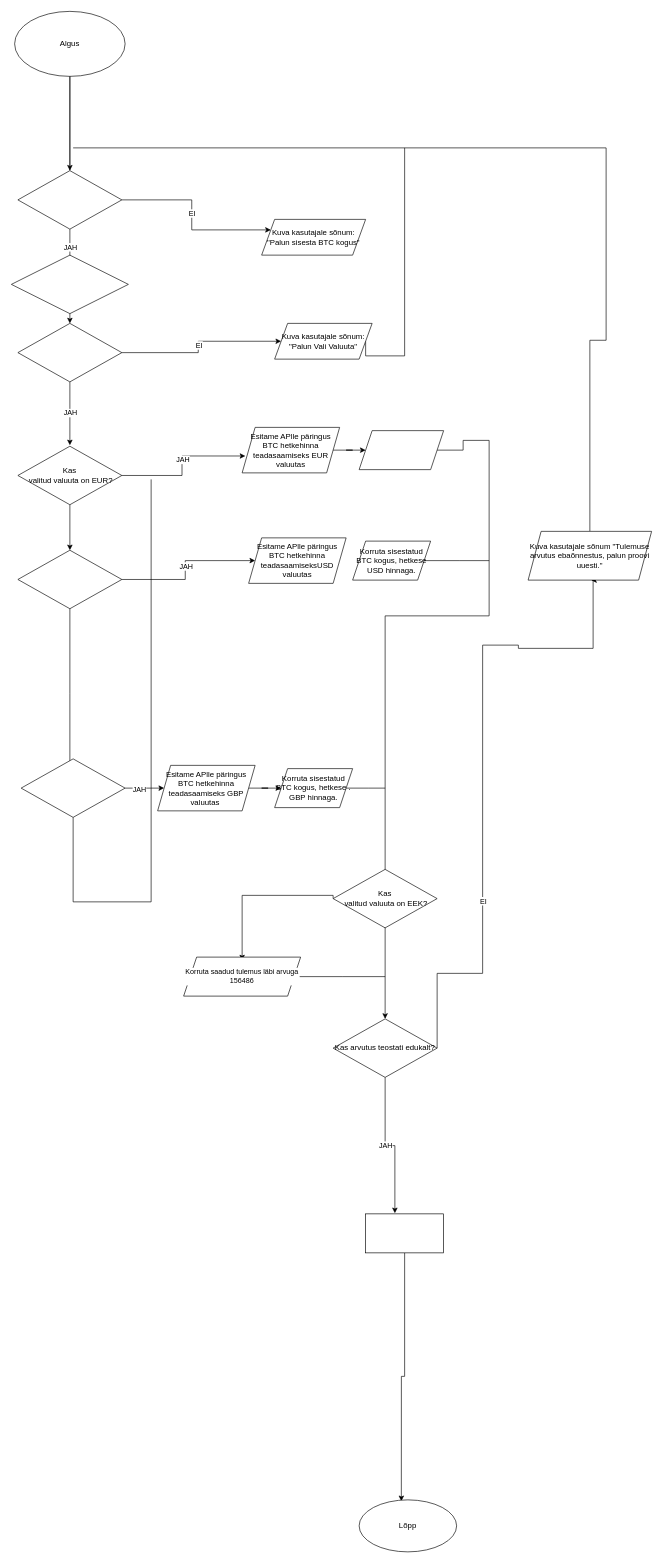
Some shapes in this 663 by 1563 pixel diagram are drawn without their labels. Each missing label, with the box of its shape:
Kas kasutaja on on valinud sihtvaluuta?: (17, 323, 122, 382)
Kas kasutaja on sisestanud oma bitcoini koguse?: (17, 170, 122, 229)
Kas kasutaja on vajutanud nuppu valuuta arvutamiseks?: (11, 254, 128, 314)
Kas valitud valuuta on GBP?: (20, 758, 125, 817)
Kas valitud valuuta on USD?: (17, 550, 122, 609)
Korruta sisestatud BTC kogus, hetkese EUR hinnaga.: (358, 430, 444, 470)
Tulemus aknas kuvatud.: (365, 1213, 444, 1253)
